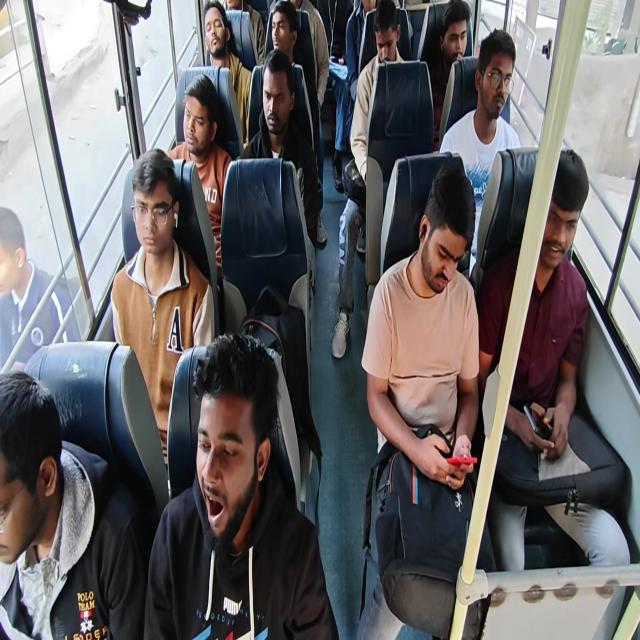person: (170, 353, 310, 640), (0, 359, 105, 640), (100, 162, 192, 342), (423, 134, 508, 328), (527, 135, 611, 328), (247, 53, 300, 170), (470, 28, 516, 140), (187, 66, 222, 166), (433, 2, 479, 66), (324, 0, 355, 92), (367, 10, 405, 83), (197, 5, 230, 71), (266, 4, 293, 82), (355, 0, 381, 41), (287, 0, 323, 23), (221, 0, 250, 25)
